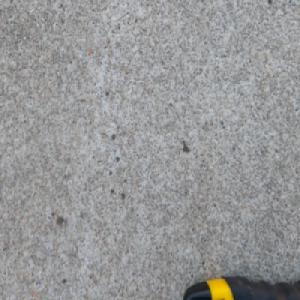Cutter: (181, 274, 300, 300)
